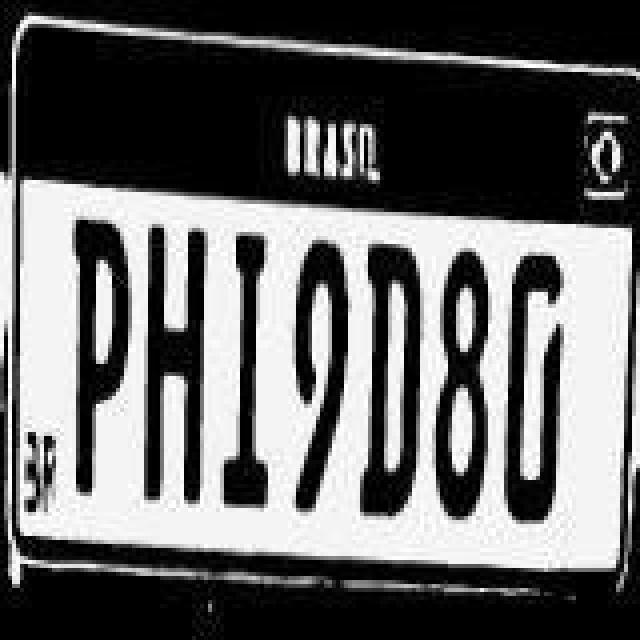8: (434, 246, 494, 534)
9: (288, 236, 360, 512)
D: (360, 236, 424, 528), (504, 242, 568, 526)
H: (140, 222, 212, 510)
I: (220, 230, 284, 518)
P: (62, 214, 130, 506)
